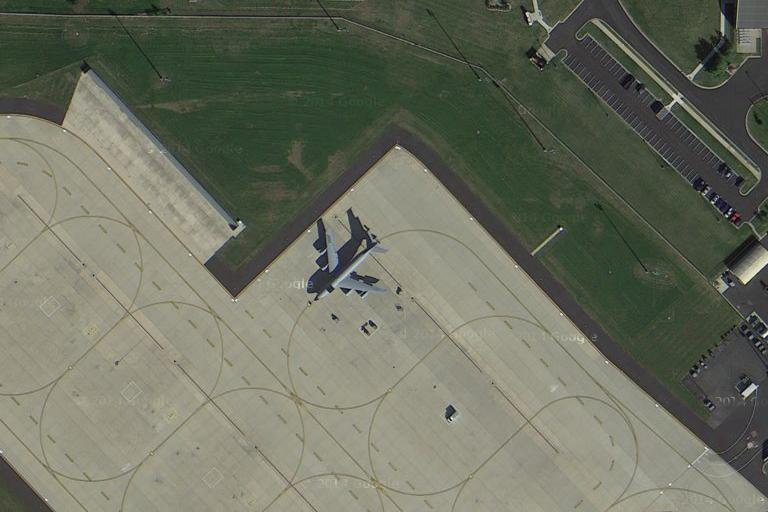KC-135: (309, 218, 388, 307)
